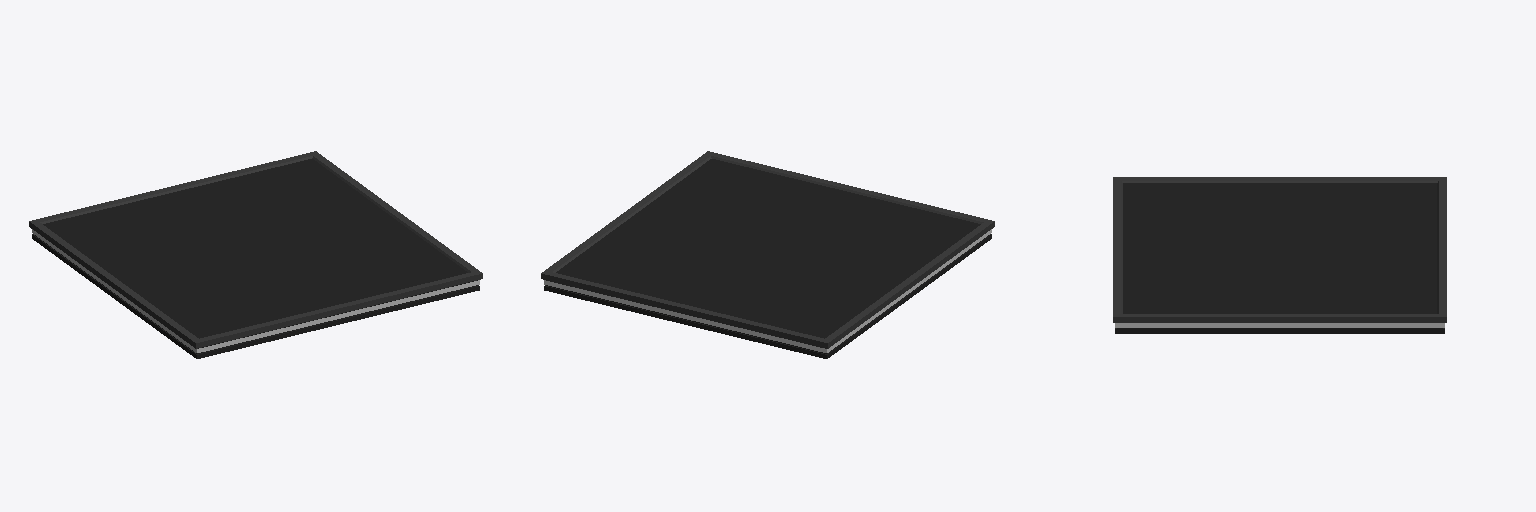
File: Platform_4x4_Empty.obj
3 views of the same model, side by side, from view 1: azimuth 30°, elevation 25°; view 2: azimuth 150°, elevation 25°; view 3: azimuth 270°, elevation 25° (orthographic).
Visible parts, largest first — view 1: Platform_4x4_Empty_Cube.013; view 2: Platform_4x4_Empty_Cube.013; view 3: Platform_4x4_Empty_Cube.013.
Part boxes in pixels (x1,y1,x2,y2): Platform_4x4_Empty_Cube.013: (29,151,482,358); Platform_4x4_Empty_Cube.013: (541,151,994,358); Platform_4x4_Empty_Cube.013: (1113,177,1446,333).
Bounding box in the file's own units: 3.86 × 0.2243 × 3.89.